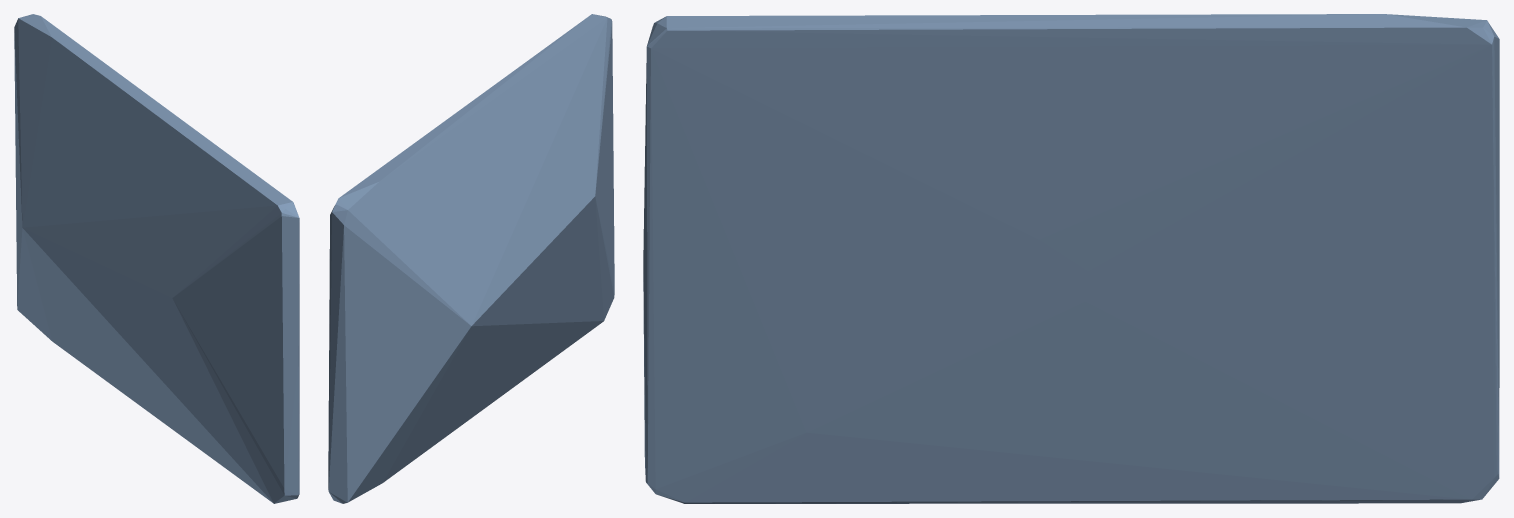
Rendered from socket_a03.glb.
3 renders of one model, left to right at view 1: azimuth 30°, elevation 25°; view 2: azimuth 150°, elevation 25°; view 3: azimuth 270°, elevation 25°, orthographic. The views are drawn at different scales.
Parts seen in each view (by area): view 1: geometry_0; view 2: geometry_0; view 3: geometry_0.
Boxes of the visible parts, x1,y1,x2,y2 form: geometry_0: (14, 14, 299, 503); geometry_0: (328, 14, 614, 503); geometry_0: (643, 14, 1499, 503).
Bounding box in the file's own units: 0.079 × 0.2961 × 0.479.
